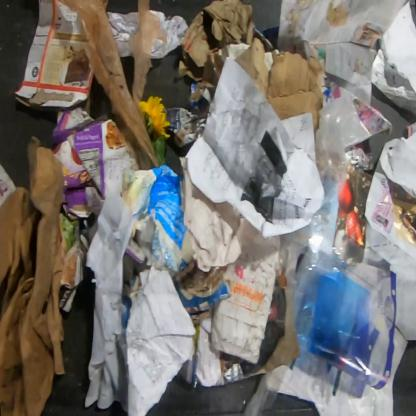cardboard: (178, 0, 325, 134), (0, 135, 68, 415), (52, 107, 141, 222), (13, 0, 93, 113), (211, 235, 280, 365), (122, 165, 192, 279), (124, 237, 146, 264)
soft_plastic: (56, 0, 168, 168), (287, 235, 397, 390), (280, 94, 370, 279)
